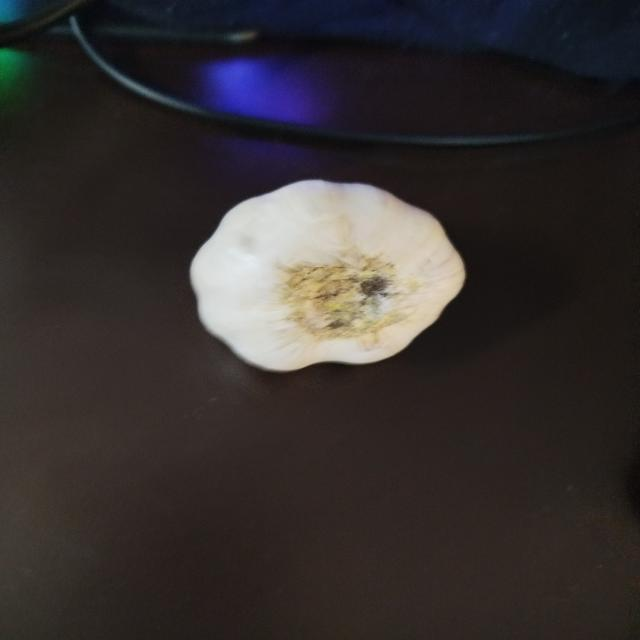garlic: (188, 178, 466, 373)
